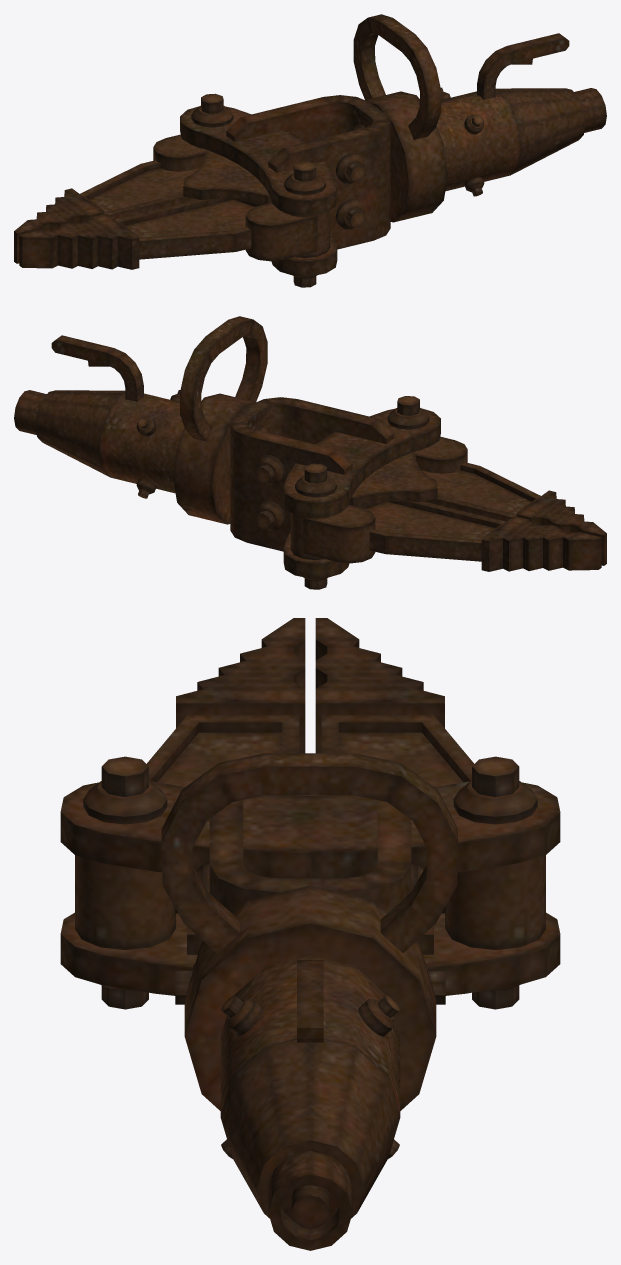
File: hydraulic_spreader_etx_1.obj
3 views of the same model, one above another, from view 1: azimuth 30°, elevation 25°; view 2: azimuth 150°, elevation 25°; view 3: azimuth 270°, elevation 25° (orthographic). The views are drawn at different scales.
Parts seen in each view (by area): view 1: hydraulic_spreader_etx_1, hydraulic_spreader_etx_1_arm_child_1, hydraulic_spreader_etx_1_arm_child; view 2: hydraulic_spreader_etx_1, hydraulic_spreader_etx_1_arm_child, hydraulic_spreader_etx_1_arm_child_1; view 3: hydraulic_spreader_etx_1, hydraulic_spreader_etx_1_arm_child, hydraulic_spreader_etx_1_arm_child_1.
Boxes of the visible parts, box(x1,y1,x2,y2) form: hydraulic_spreader_etx_1: box(180, 14, 606, 287); hydraulic_spreader_etx_1_arm_child_1: box(19, 199, 330, 269); hydraulic_spreader_etx_1_arm_child: box(14, 134, 207, 263); hydraulic_spreader_etx_1: box(14, 316, 440, 589); hydraulic_spreader_etx_1_arm_child: box(290, 501, 601, 571); hydraulic_spreader_etx_1_arm_child_1: box(413, 436, 606, 565); hydraulic_spreader_etx_1: box(60, 753, 560, 1250); hydraulic_spreader_etx_1_arm_child: box(315, 618, 545, 949); hydraulic_spreader_etx_1_arm_child_1: box(75, 618, 305, 949).
Bounding box in the file's own units: 1.19 × 0.3687 × 0.4452.
